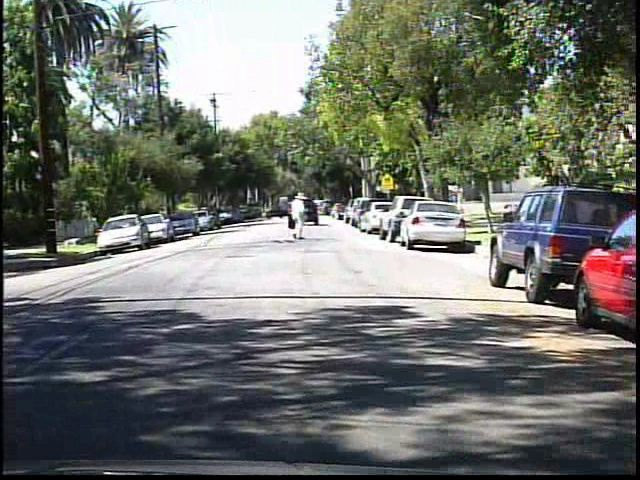person: (284, 192, 313, 243)
